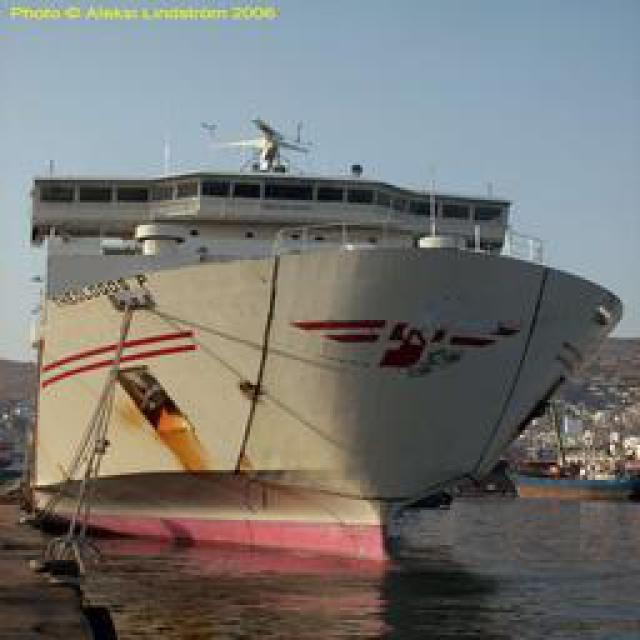Ship: (32, 200, 620, 533)
